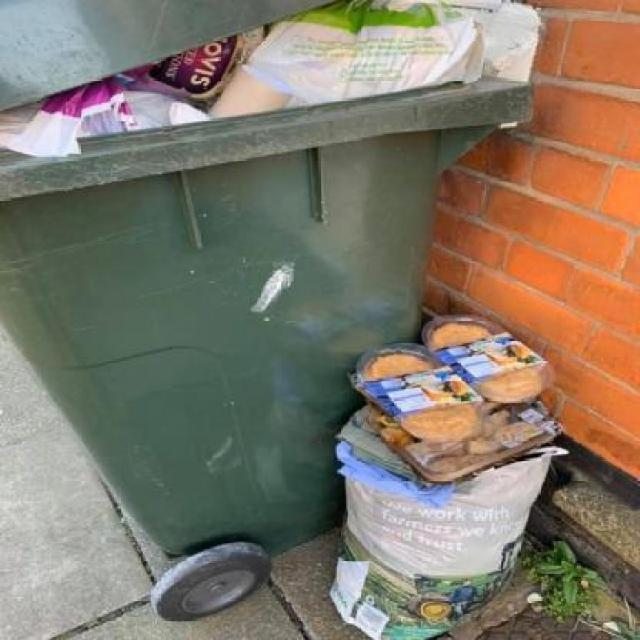garbage: (225, 0, 532, 118), (5, 77, 214, 152)
